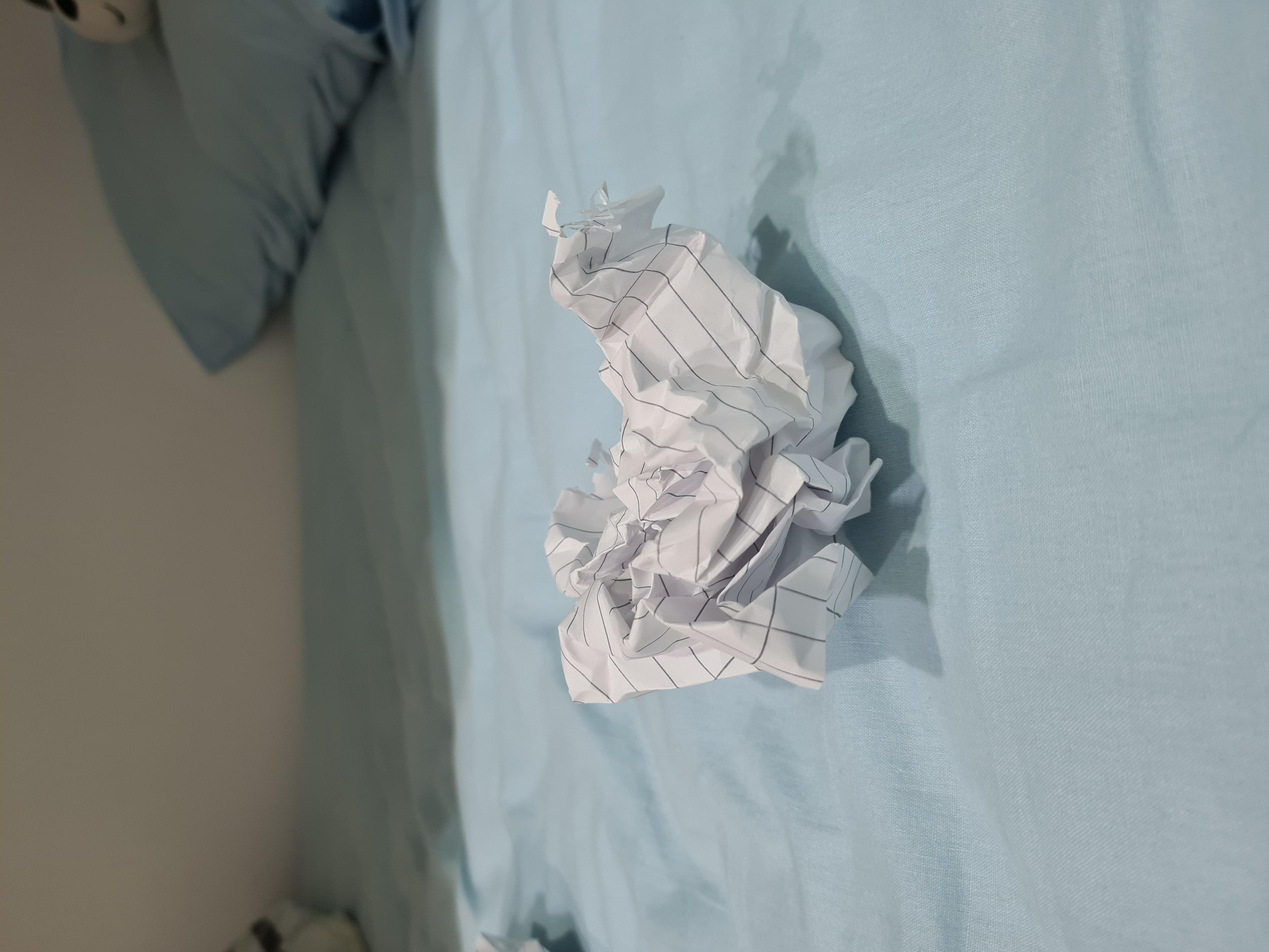paper: (324, 392, 1021, 664)
